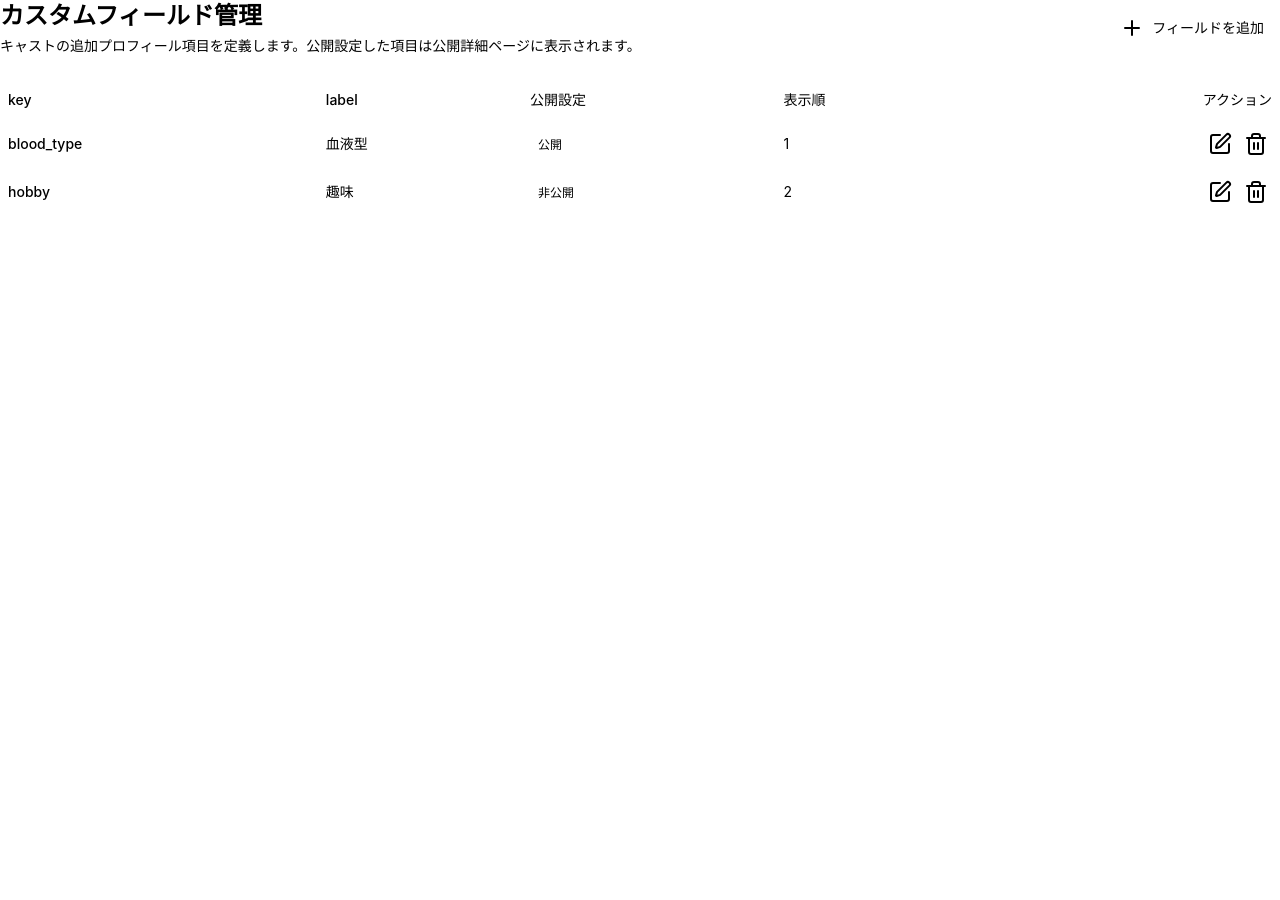
Test case: カスタムフィールド定義の管理ページ › 編集ボタンで対象定義の編集モーダルが開く
Expected: the text "hobby" is shown, [0, 168, 318, 216]
Click the button named "編集" in the row of "hobby": point(1220, 192) [1204, 176, 1236, 208]
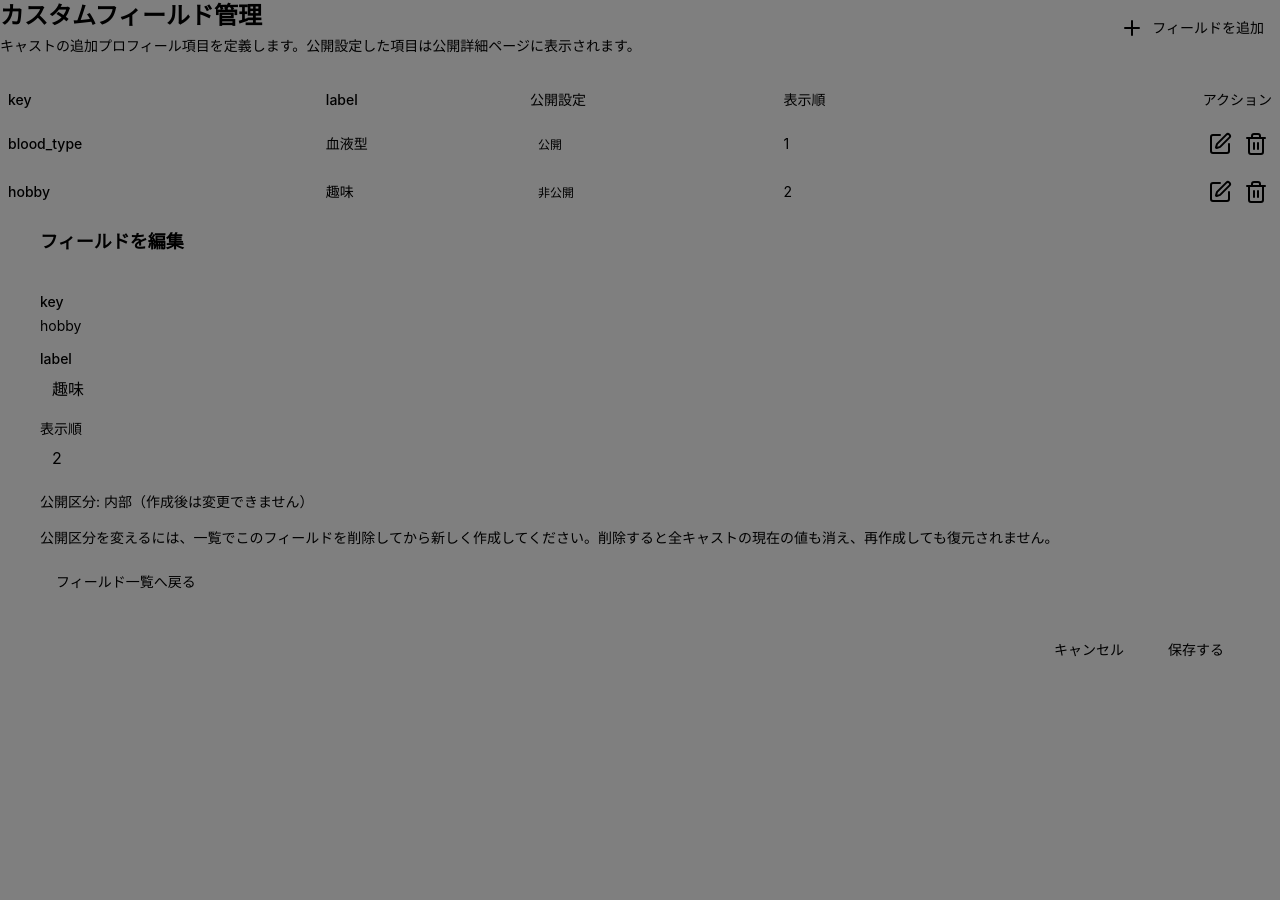
Expected: the heading "フィールドを編集" is shown, [40, 231, 184, 252]
Expected: the field labelled "label" holds "趣味", [40, 370, 1240, 406]
